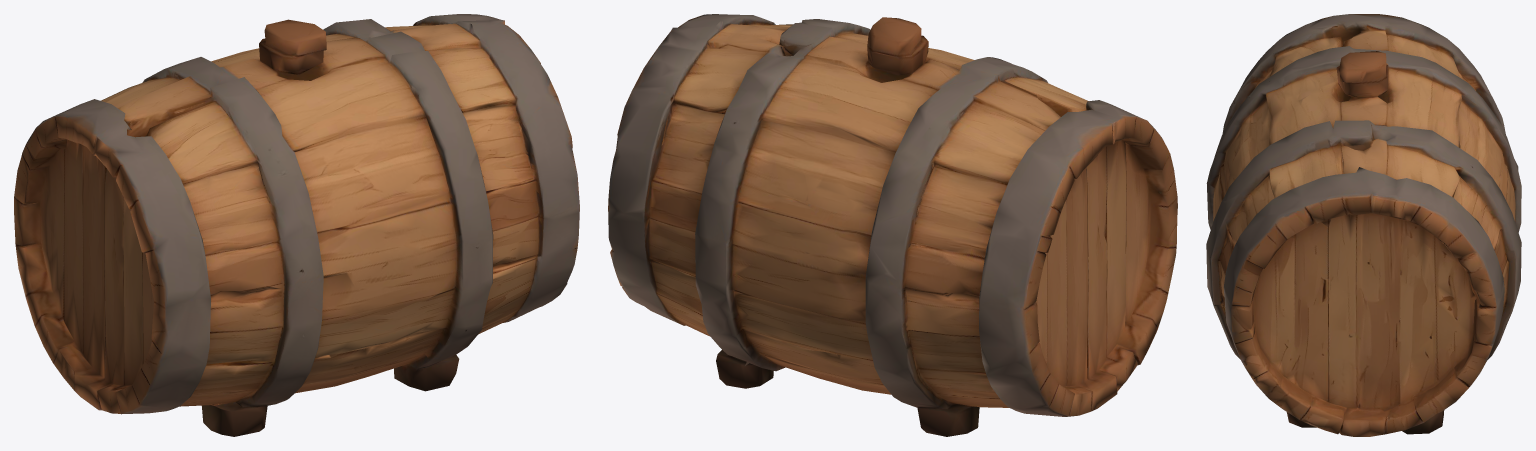
Rendered from barrel.glb.
The picture shows the model from 3 angles, left to right: view 1: azimuth 30°, elevation 25°; view 2: azimuth 150°, elevation 25°; view 3: azimuth 270°, elevation 25°; orthographic projection. The views are drawn at different scales.
Visible parts, largest first — view 1: tripo_node_d56418d8-8156-49e4-99a1-066178f3cbd1; view 2: tripo_node_d56418d8-8156-49e4-99a1-066178f3cbd1; view 3: tripo_node_d56418d8-8156-49e4-99a1-066178f3cbd1.
Boxes of the visible parts, x1=… form: tripo_node_d56418d8-8156-49e4-99a1-066178f3cbd1: x1=14, y1=14, x2=579, y2=436; tripo_node_d56418d8-8156-49e4-99a1-066178f3cbd1: x1=608, y1=14, x2=1177, y2=436; tripo_node_d56418d8-8156-49e4-99a1-066178f3cbd1: x1=1206, y1=14, x2=1521, y2=436.
Size of the model in its own units: 1 by 0.7923 by 0.7207.
1 material, 1 textured.
